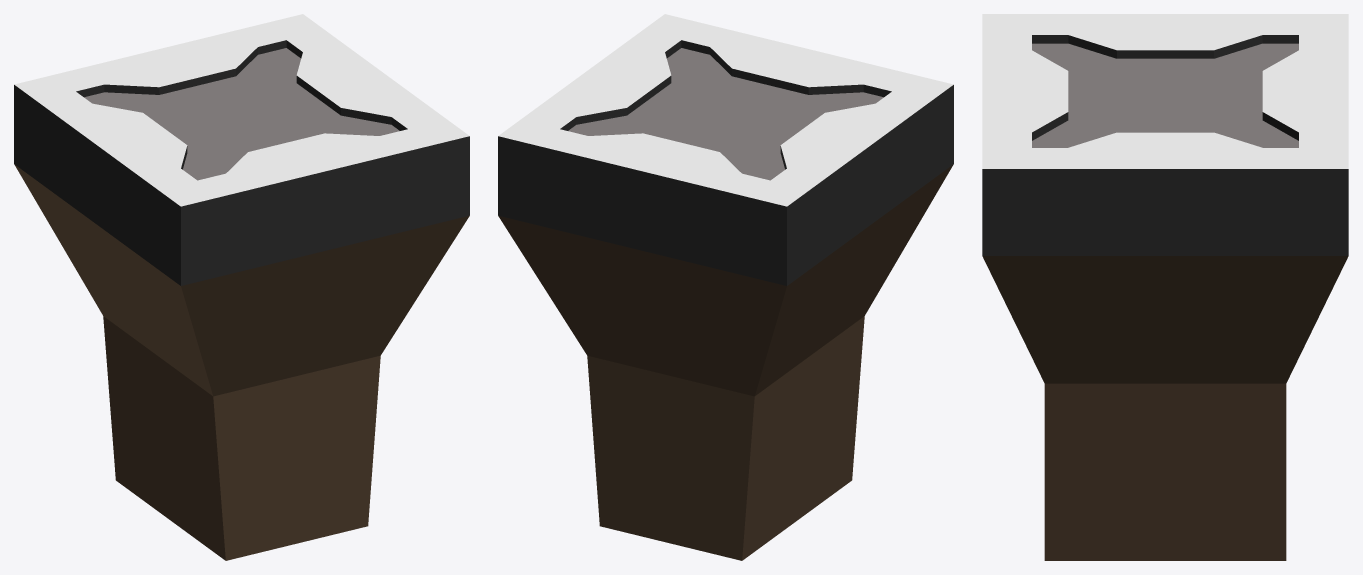
Rendered from station_type_04.fbx.
The picture shows the model from 3 angles, left to right: view 1: azimuth 30°, elevation 25°; view 2: azimuth 150°, elevation 25°; view 3: azimuth 270°, elevation 25°; orthographic projection. The views are drawn at different scales.
Visible parts, largest first — view 1: station_type_04; view 2: station_type_04; view 3: station_type_04.
Part boxes in pixels (x1,y1,x2,y2): station_type_04: (14,14,469,560); station_type_04: (498,14,953,560); station_type_04: (982,14,1348,560).
Bounding box in the file's own units: 823 × 1069 × 823.
1 material, 1 textured.
